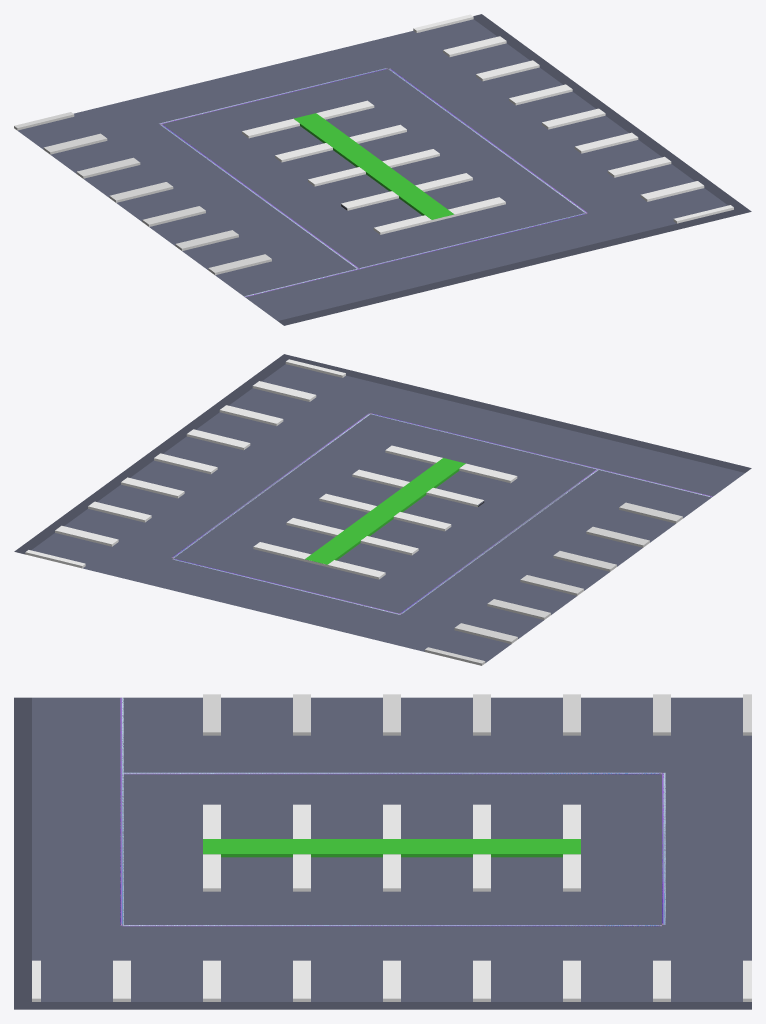
File: parcking.glb
3 renders of one model, top to bottom at view 1: azimuth 30°, elevation 25°; view 2: azimuth 150°, elevation 25°; view 3: azimuth 270°, elevation 25°, orthographic. The views are drawn at different scales.
Parts seen in each view (by area): view 1: Plan; view 2: Plan; view 3: Plan.
Part boxes in pixels (x1=…): Plan: x1=14, y1=14, x2=751, y2=325; Plan: x1=14, y1=354, x2=751, y2=665; Plan: x1=14, y1=694, x2=751, y2=1009.
Size of the model in its own units: 4.1 by 0.021 by 4.1.
Materials: 1 (1 with a texture image).
